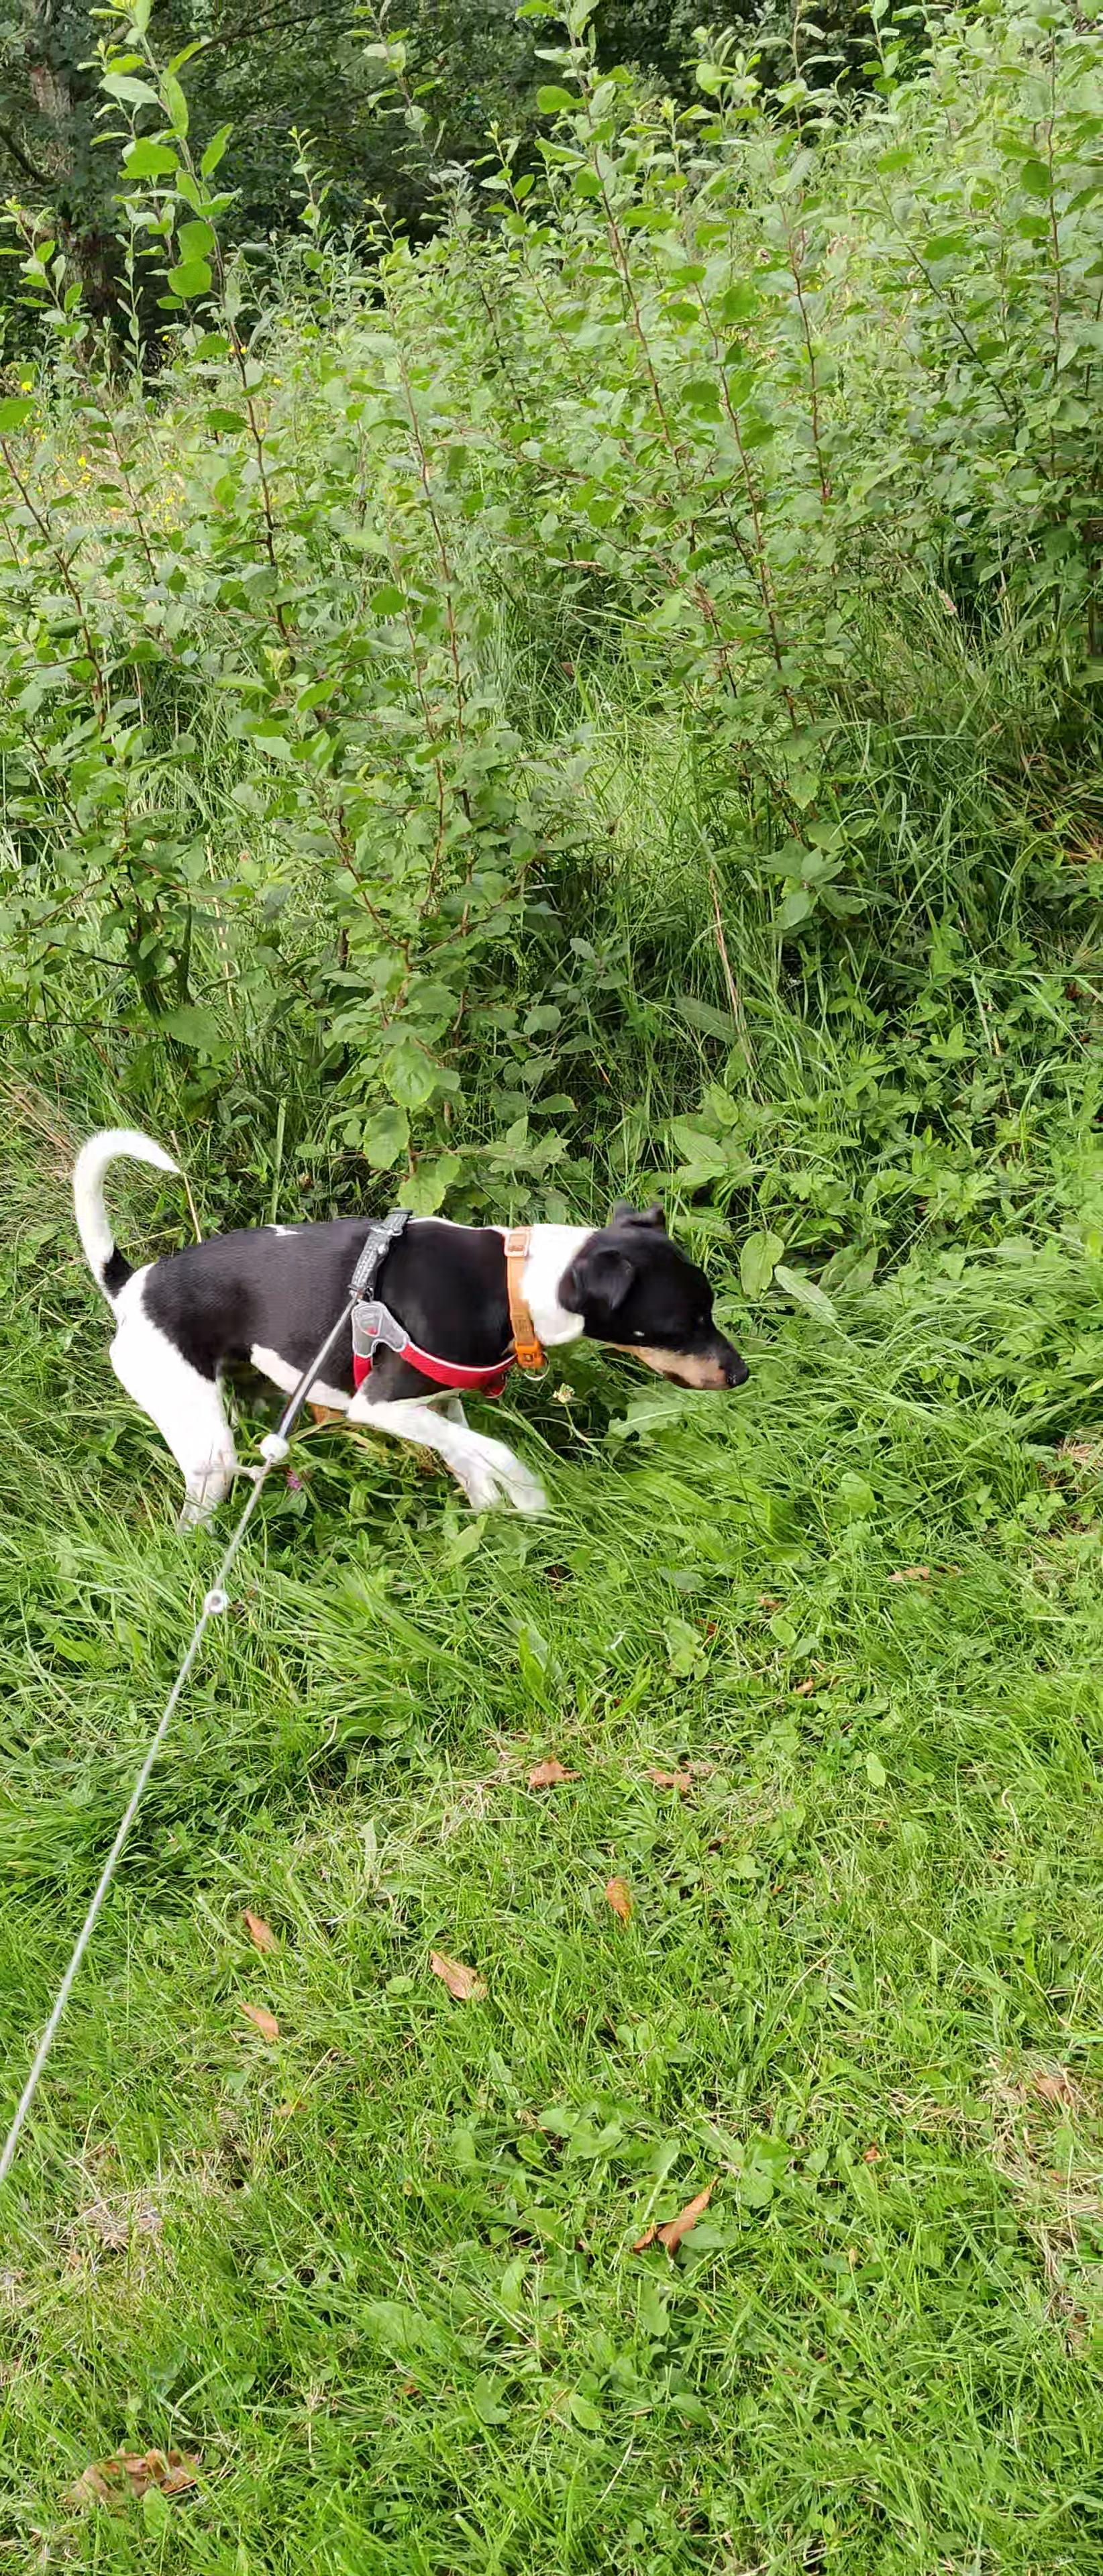Dog: (66, 1120, 758, 1541)
